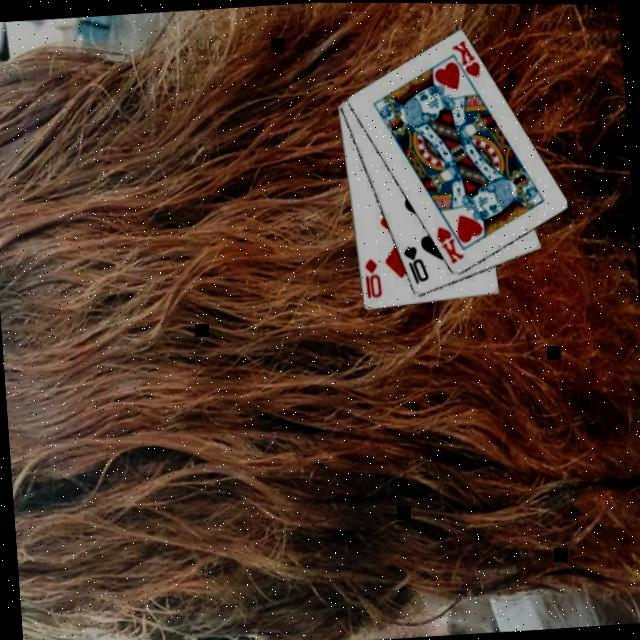10D: (358, 254, 382, 300)
10S: (398, 240, 429, 286)
KH: (430, 220, 466, 266), (446, 36, 482, 80)
